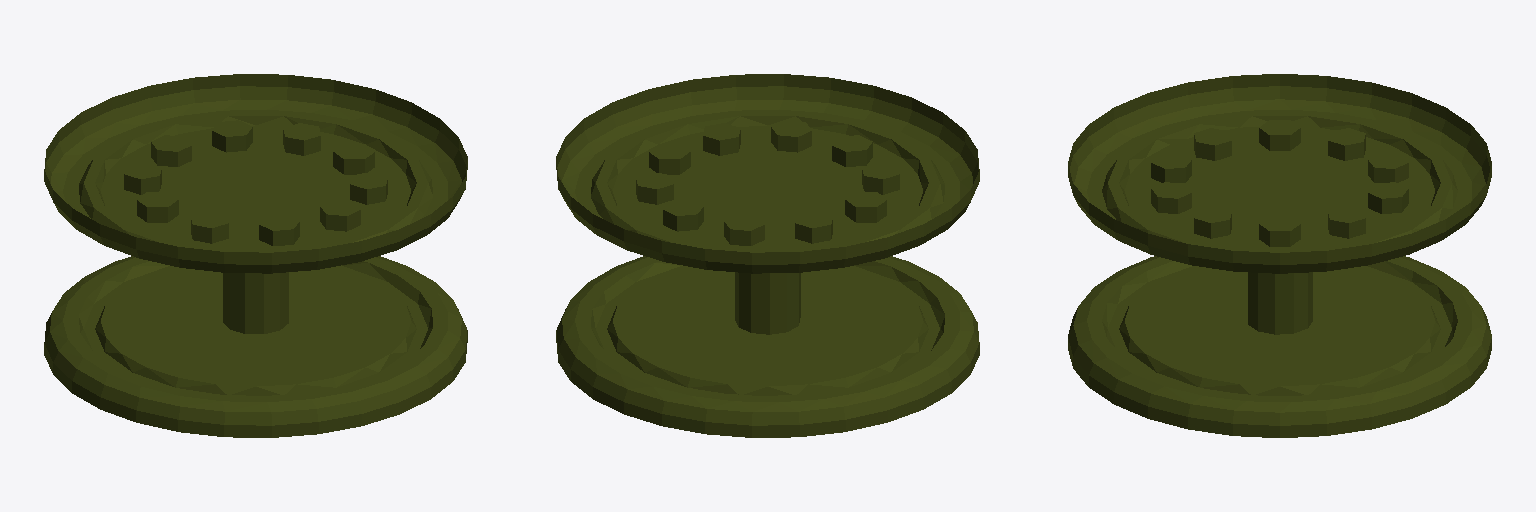
Rendered from SemiTractor_rim.obj.
3 views of the same model, side by side, from view 1: azimuth 30°, elevation 25°; view 2: azimuth 150°, elevation 25°; view 3: azimuth 270°, elevation 25° (orthographic).
Parts seen in each view (by area): view 1: test.001; view 2: test.001; view 3: test.001.
Boxes of the visible parts, x1=… form: test.001: x1=44, y1=74, x2=467, y2=437; test.001: x1=556, y1=74, x2=979, y2=437; test.001: x1=1068, y1=74, x2=1491, y2=437.
Size of the model in its own units: 0.56 by 0.27 by 0.56.